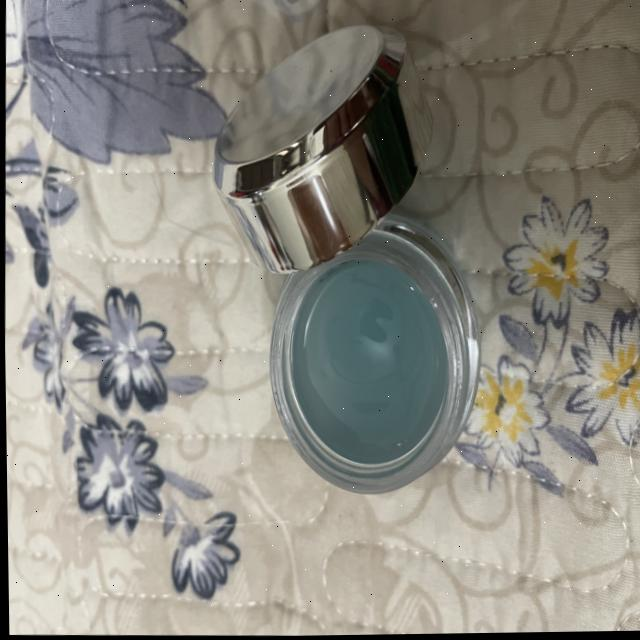gel: (249, 226, 493, 511)
